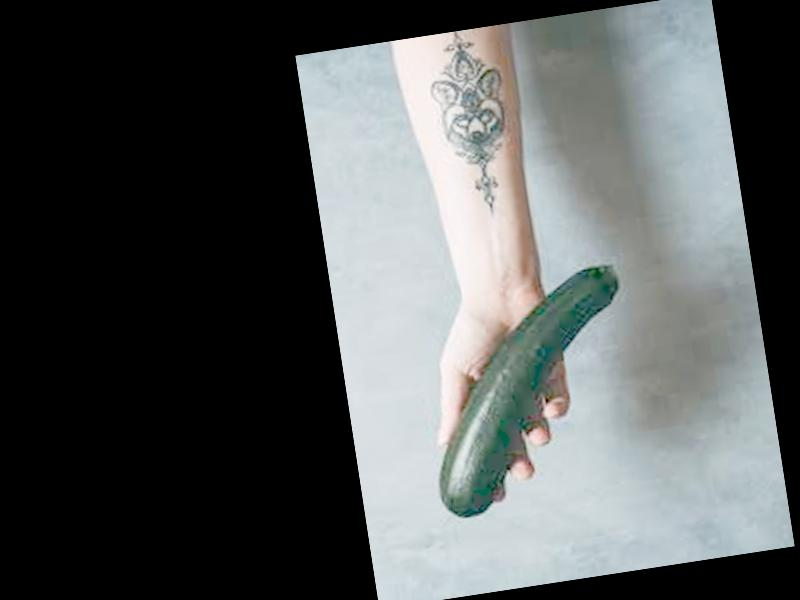Cucumber: (411, 264, 649, 521)
